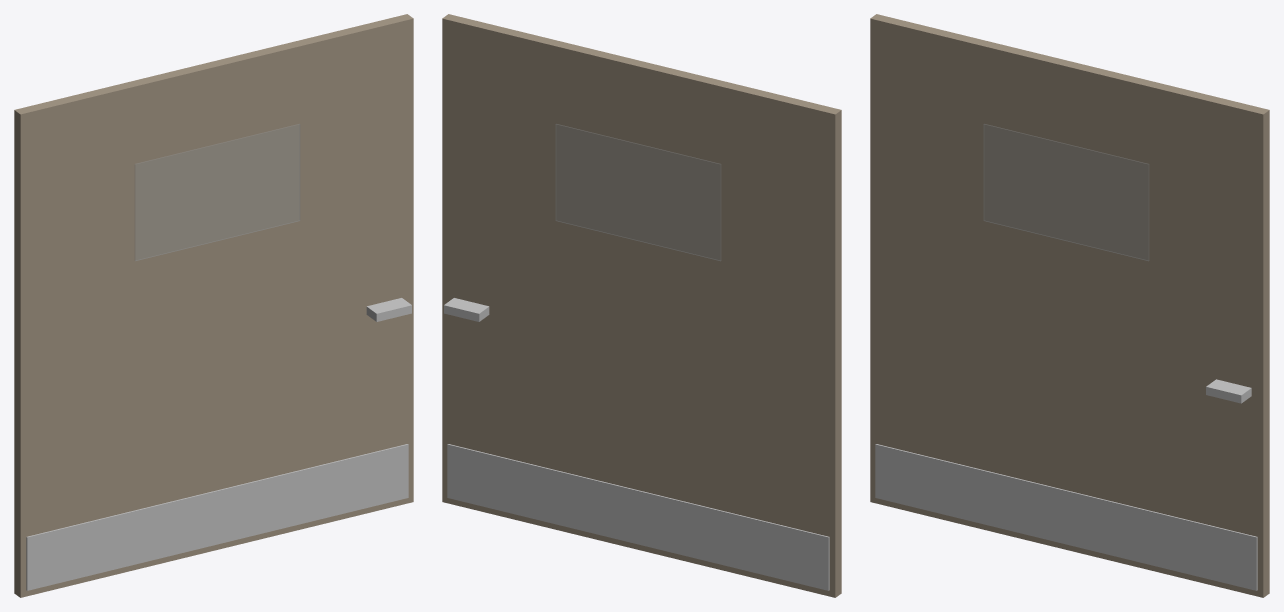
File: folha_f0669b528a.gltf
3 views of the same model, side by side, from view 1: azimuth 30°, elevation 25°; view 2: azimuth 150°, elevation 25°; view 3: azimuth 330°, elevation 25° (orthographic).
Visible parts, largest first — view 1: folha_f0669b528a; view 2: folha_f0669b528a; view 3: folha_f0669b528a.
Boxes of the visible parts, bbox=[...] form: folha_f0669b528a: bbox=[14, 14, 413, 597]; folha_f0669b528a: bbox=[442, 14, 841, 597]; folha_f0669b528a: bbox=[870, 14, 1269, 597].
Size of the model in its own units: 2 by 2.35 by 0.235.
